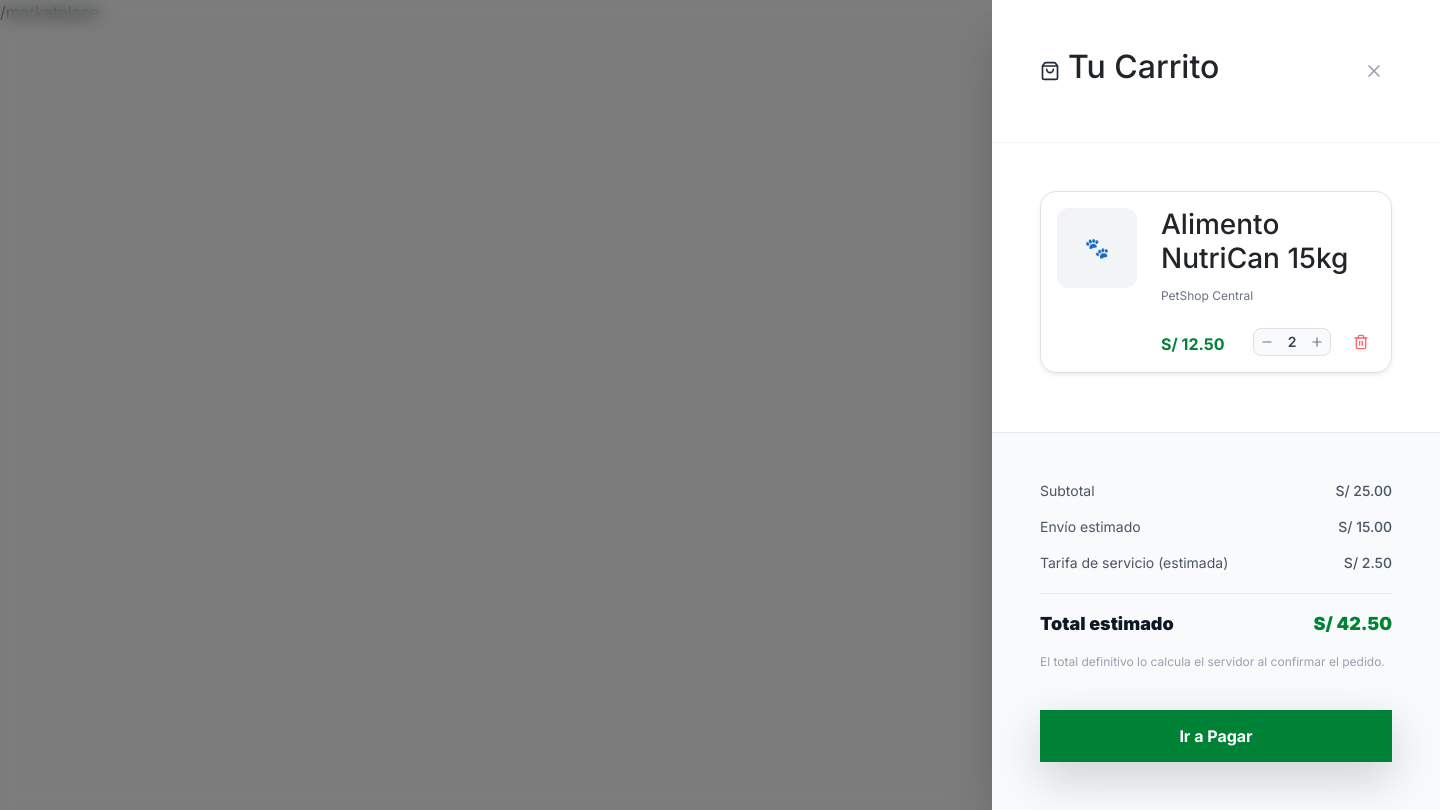
Carrito lateral › los botones de cantidad cambian la línea y el subtotal
This screenshot has width=1440, height=810.
Click the button named "Aumentar cantidad de Alimento NutriCan 15kg" at (1317, 342), box [1304,329,1330,355]
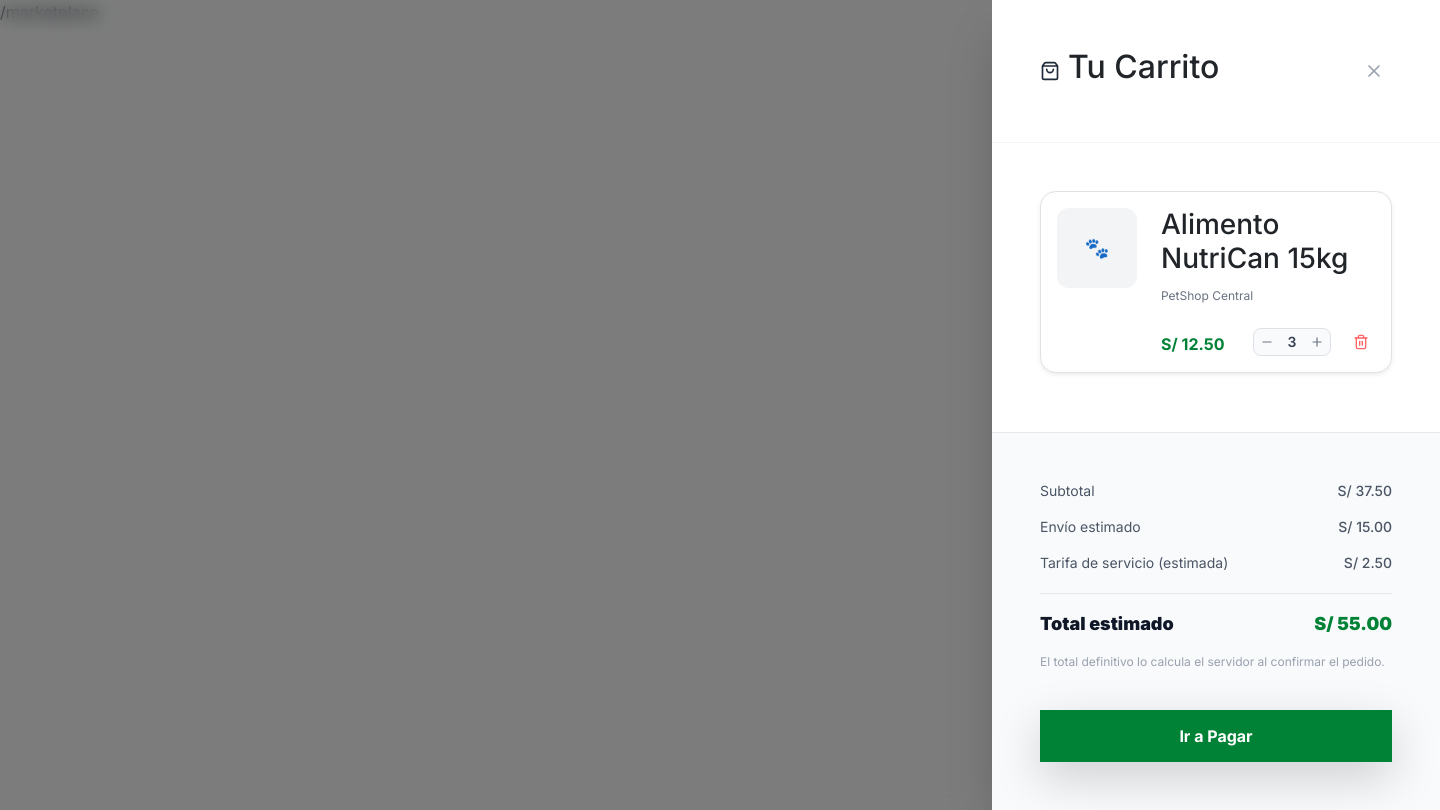
Check: the text "S/ 37.50" is shown, box [1338,481,1392,501]
Click the button named "Disminuir cantidad de Alimento NutriCan 15kg" at (1267, 342), box [1254,329,1280,355]
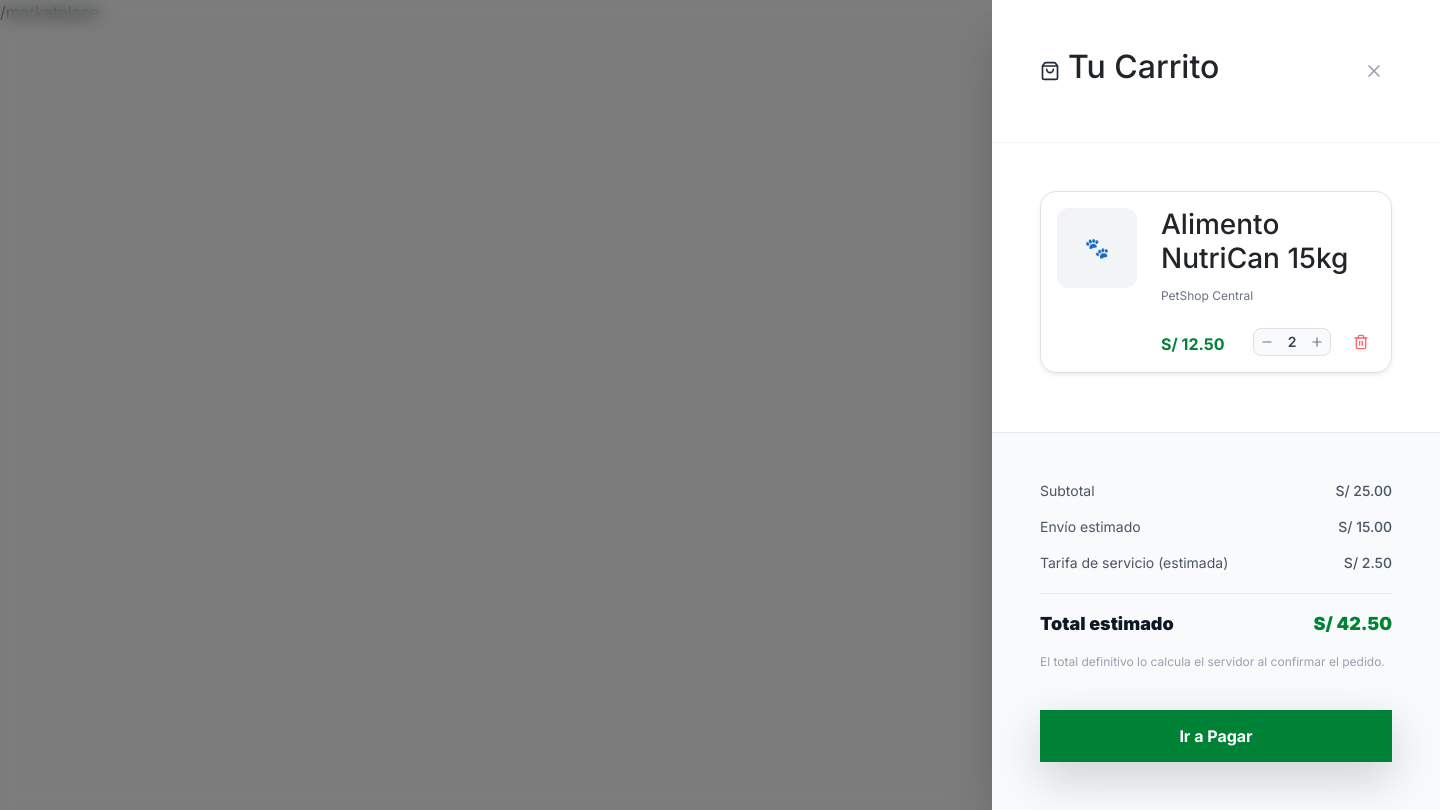
Click the button named "Disminuir cantidad de Alimento NutriCan 15kg" at (1267, 342), box [1254,329,1280,355]
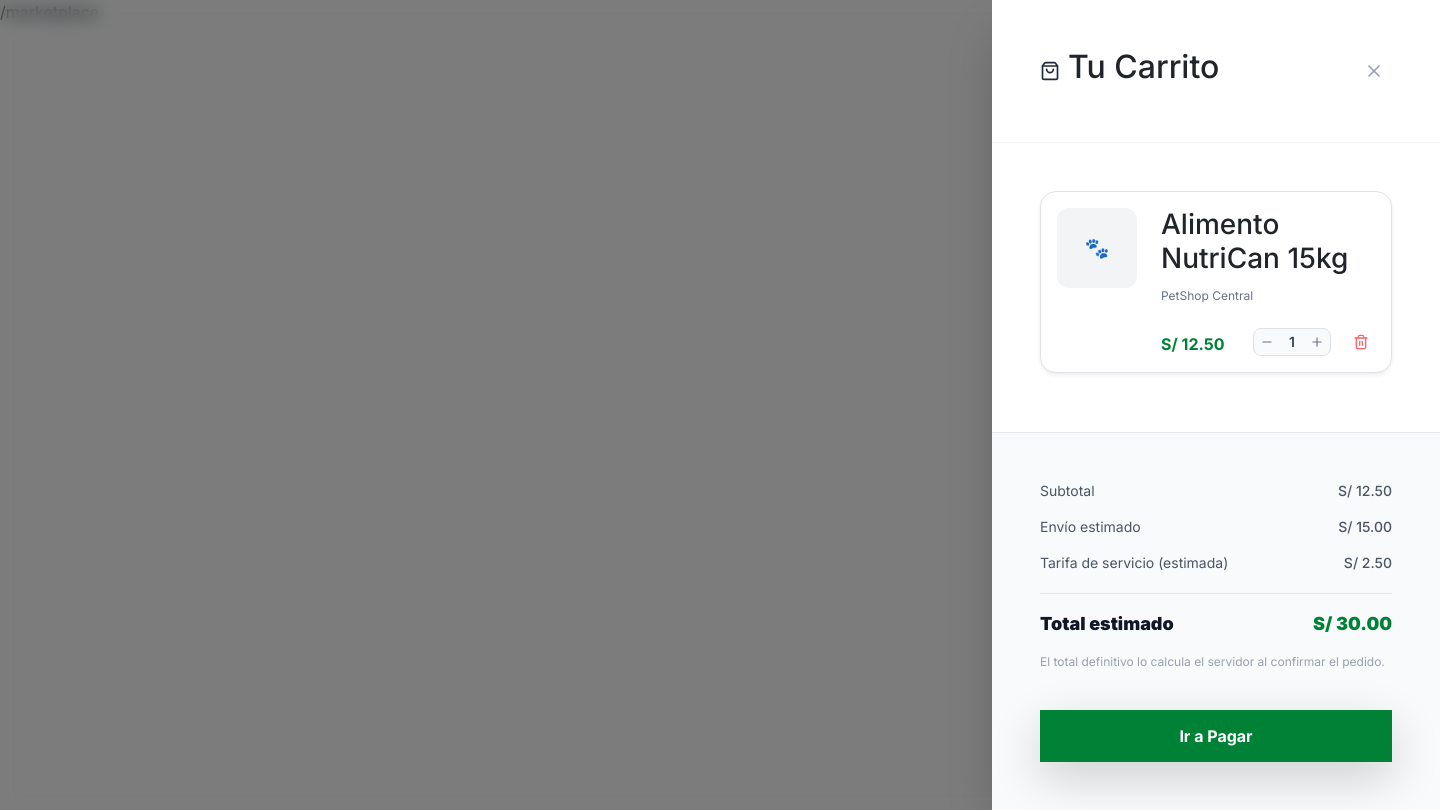
Check: the text "S/ 12.50" in the row of "Subtotal" is shown, box [1338,482,1392,499]
